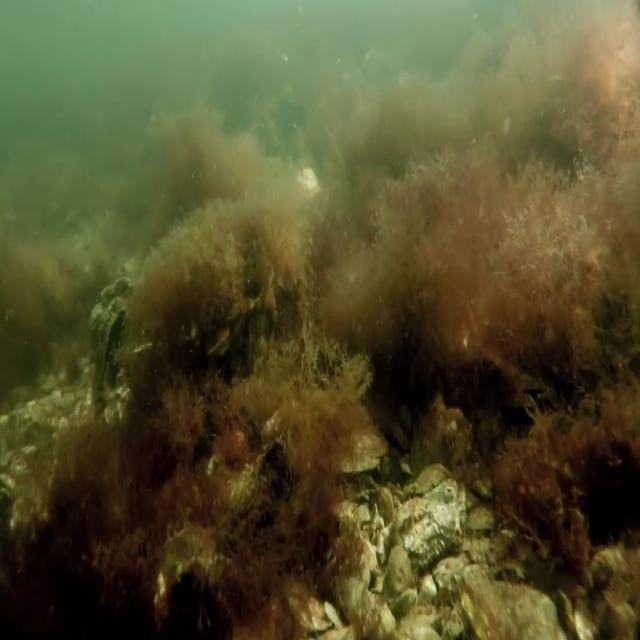Oyster-Closed: (85, 276, 138, 415)
Oyster-Indeterminate: (334, 415, 393, 481)
